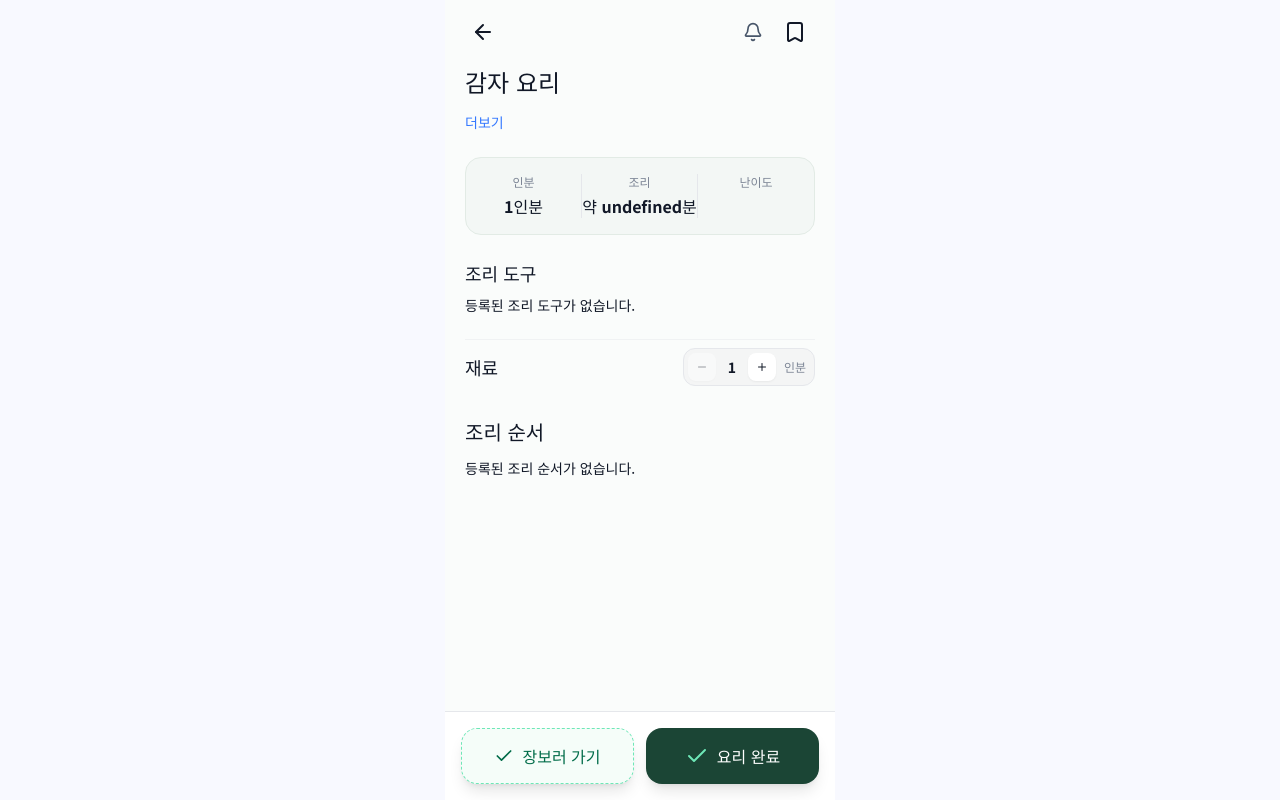
it: opens shopping in a sheet and preserves the cooking completion sheet
Click the button "장보러 가기" at (548, 756), box x1=461 y1=728 x2=634 y2=784
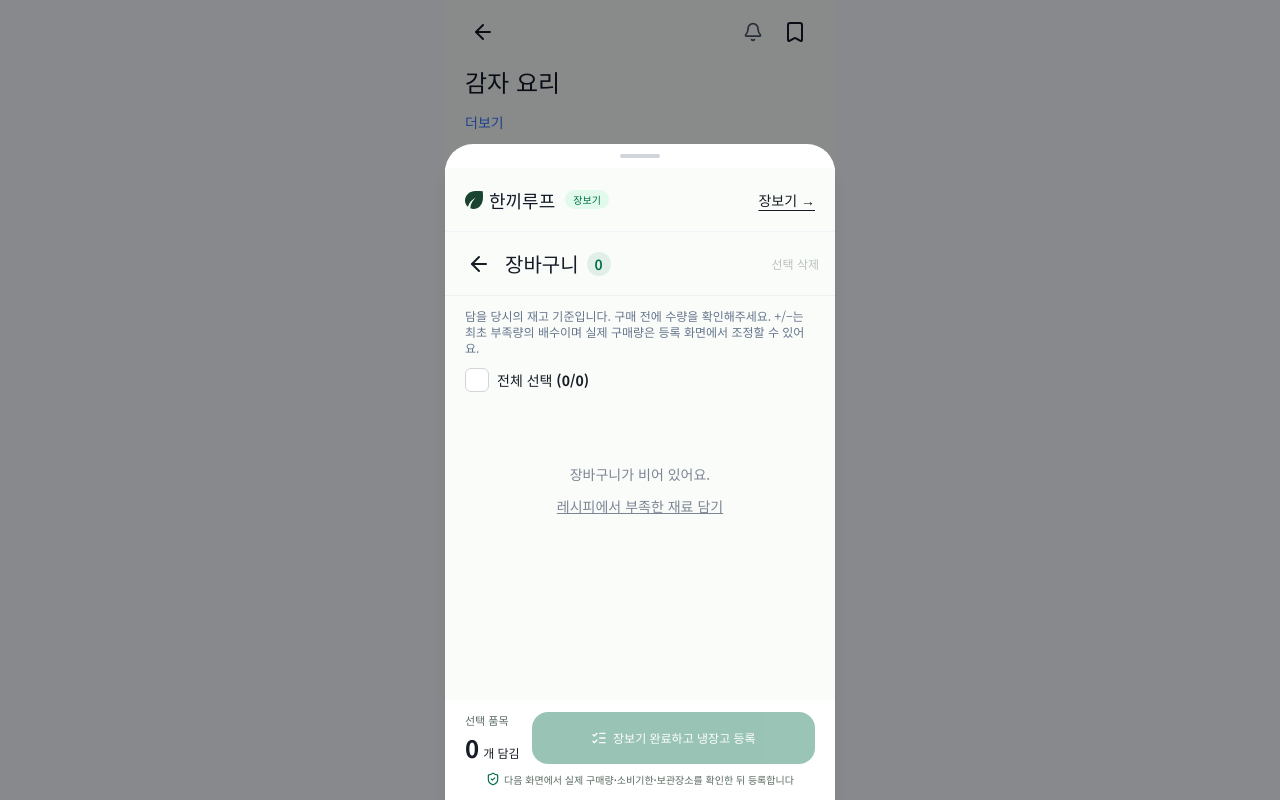
expect the dialog "장바구니" is shown: met
expect the text "장바구니가 비어 있어요." is shown: met, box x1=570 y1=464 x2=710 y2=484
Click the button named "뒤로가기" at (479, 264), box x1=461 y1=246 x2=497 y2=282
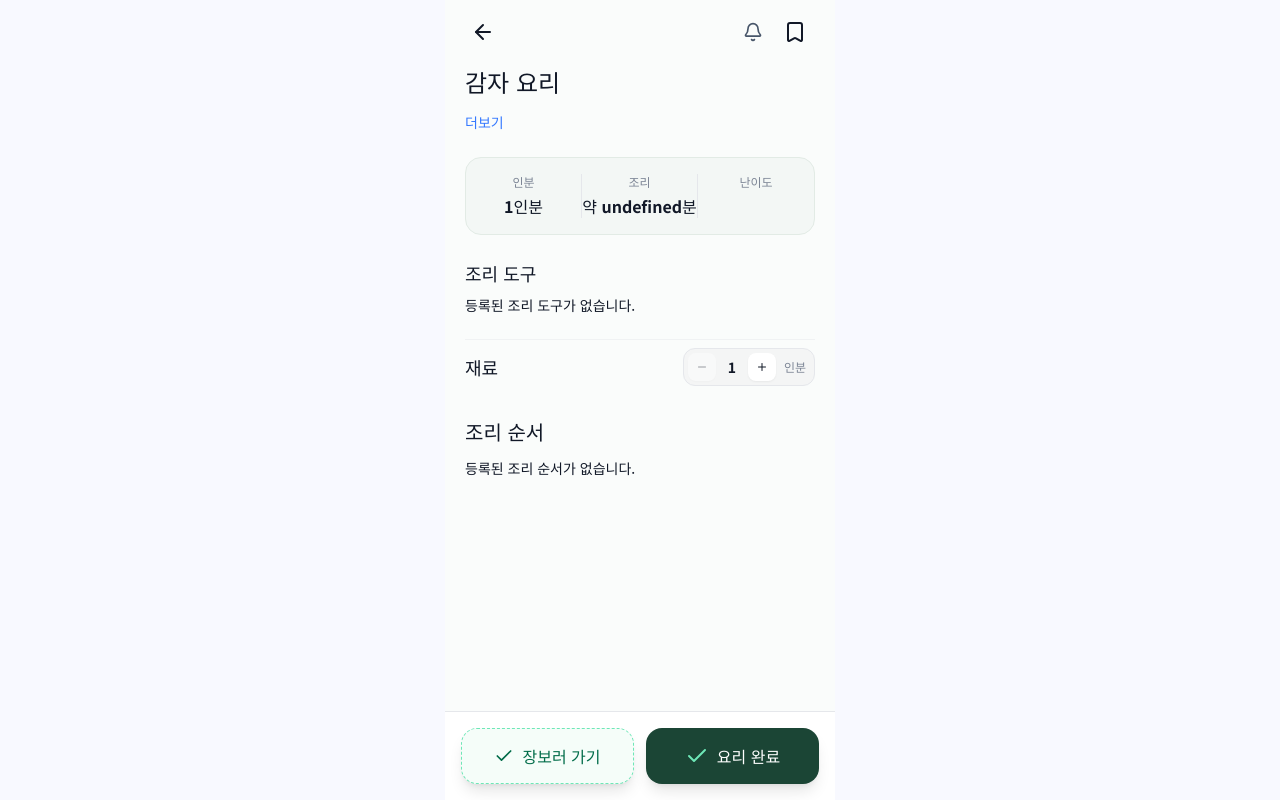
expect the dialog is gone: met
Click the button "요리 완료" at (732, 756), box x1=646 y1=728 x2=819 y2=784
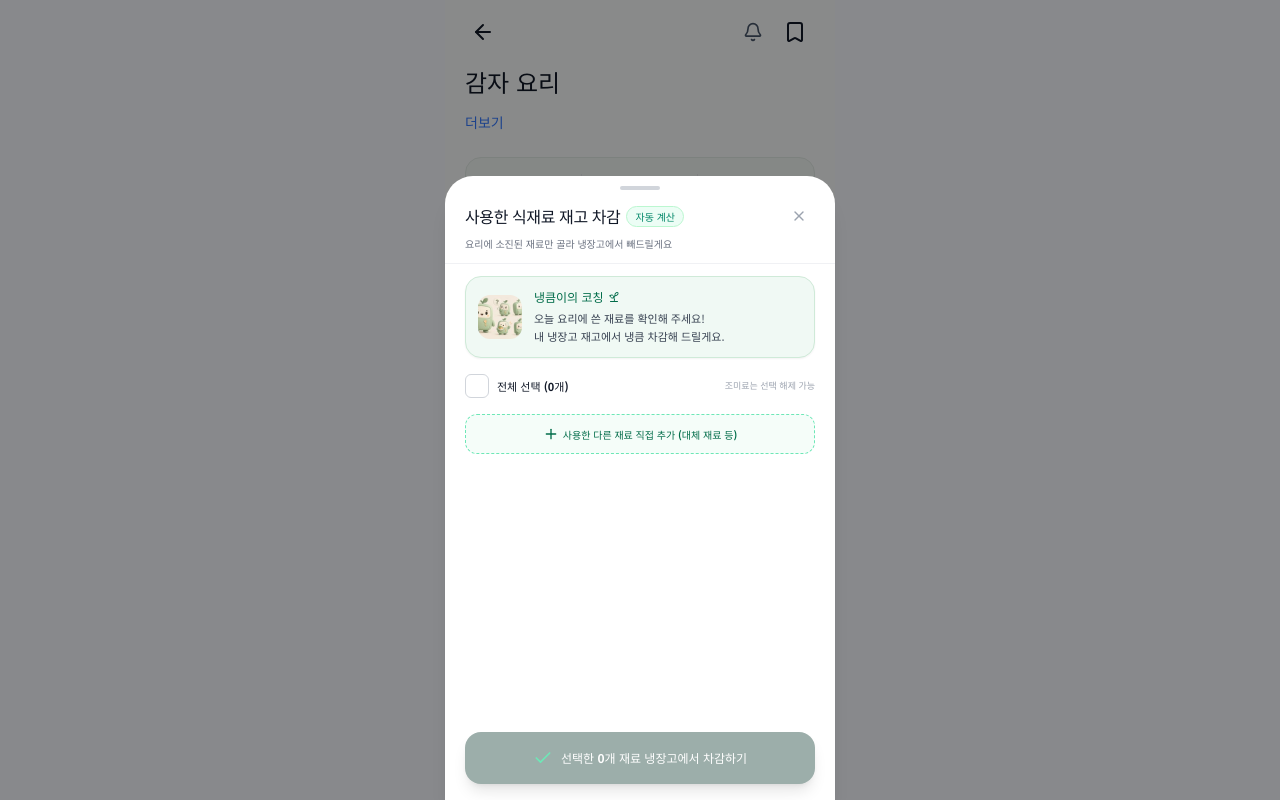
expect the dialog "사용한 식재료 재고 차감" is shown: met
